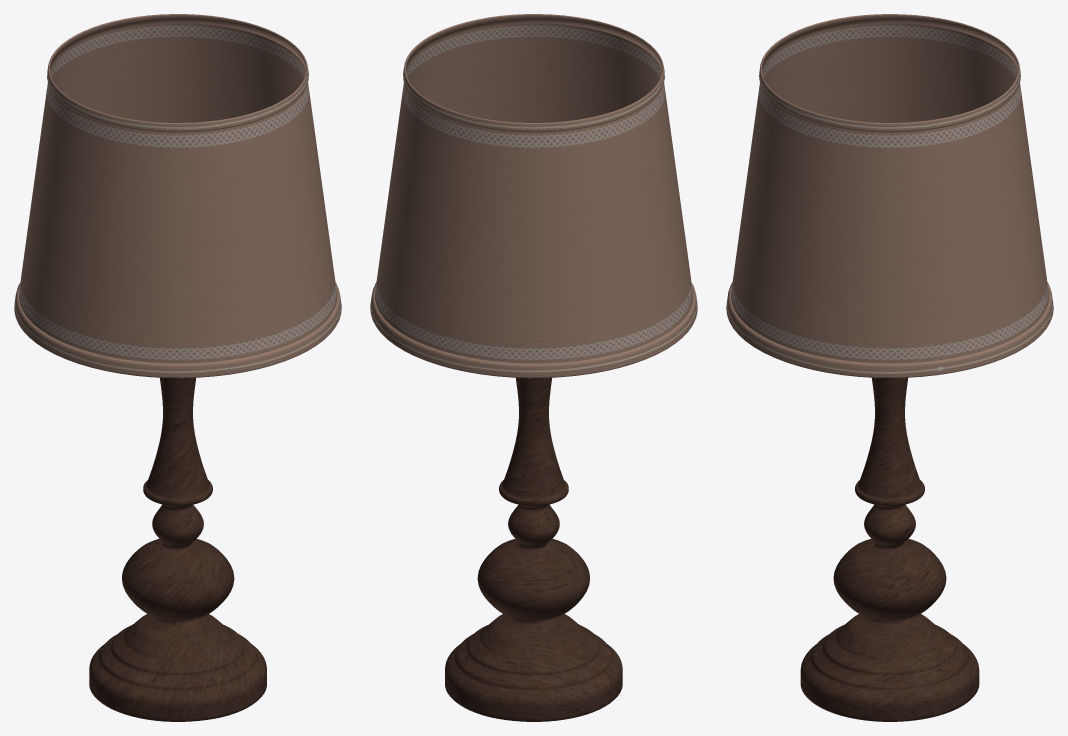
3 renders of one model, left to right at view 1: azimuth 30°, elevation 25°; view 2: azimuth 150°, elevation 25°; view 3: azimuth 270°, elevation 25°, orthographic.
Parts seen in each view (by area): view 1: Circle.006, Cylinder.010; view 2: Circle.006, Cylinder.010; view 3: Circle.006, Cylinder.010.
Boxes of the visible parts, <box> form: Circle.006: <box>14,14,341,378</box>; Cylinder.010: <box>89,377,266,721</box>; Circle.006: <box>370,14,697,378</box>; Cylinder.010: <box>445,377,622,721</box>; Circle.006: <box>726,14,1053,377</box>; Cylinder.010: <box>800,377,979,721</box>.
Bounding box in the file's own units: 214 × 445 × 214.
7 materials, 4 textured.
